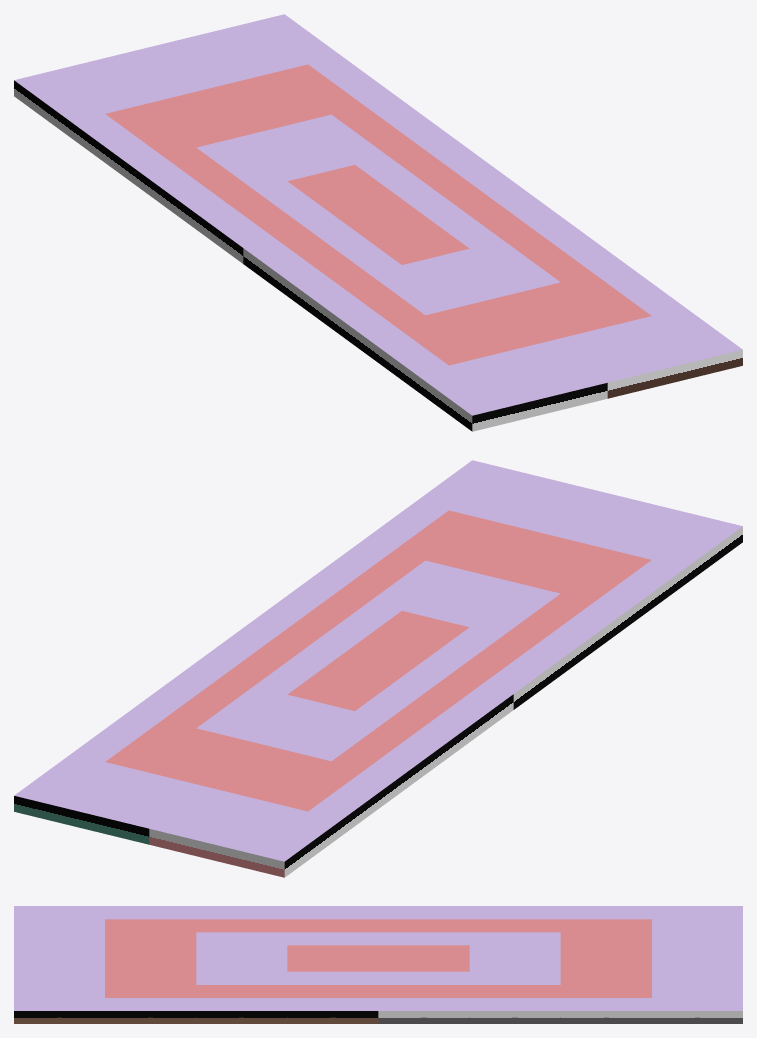
File: Alfombra2.fbx
3 renders of one model, top to bottom at view 1: azimuth 30°, elevation 25°; view 2: azimuth 150°, elevation 25°; view 3: azimuth 270°, elevation 25°, orthographic. The views are drawn at different scales.
Visible parts, largest first — view 1: Alfombra2; view 2: Alfombra2; view 3: Alfombra2.
Part boxes in pixels (bbox=[...]): Alfombra2: bbox=[14, 14, 742, 431]; Alfombra2: bbox=[14, 460, 742, 877]; Alfombra2: bbox=[14, 906, 742, 1023].
Size of the model in its own units: 66.23 by 194 by 3.75.
